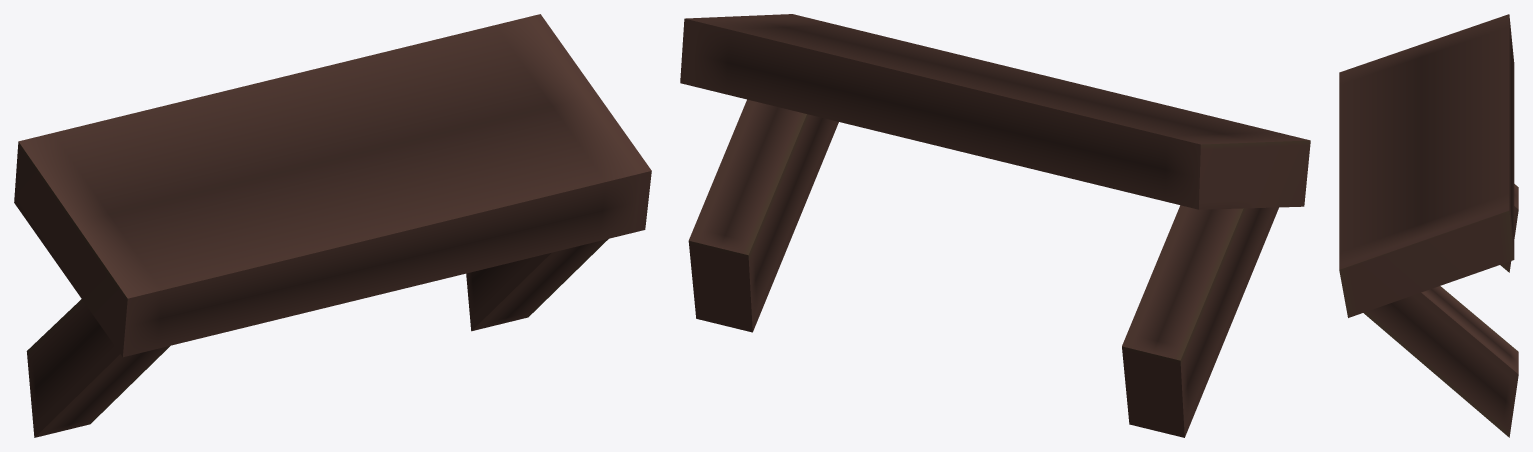
Rendered from parasol_v4_001.fbx.
3 renders of one model, left to right at view 1: azimuth 30°, elevation 25°; view 2: azimuth 150°, elevation 25°; view 3: azimuth 270°, elevation 25°, orthographic. The views are drawn at different scales.
Visible parts, largest first — view 1: parasol_v4_001; view 2: parasol_v4_001; view 3: parasol_v4_001.
Part boxes in pixels (x1,y1,x2,y2): parasol_v4_001: [14, 14, 651, 437]; parasol_v4_001: [680, 14, 1310, 437]; parasol_v4_001: [1339, 14, 1518, 437].
Size of the model in its own units: 158 by 86.63 by 60.78.
